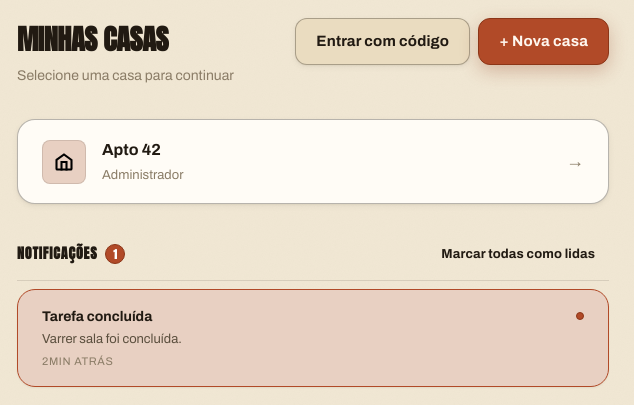
Test: Houses page — notifications panel › marks all notifications as read and hides unread button
Click the button "Marcar todas como lidas".
click(518, 254)  # box [427,236,609,272]
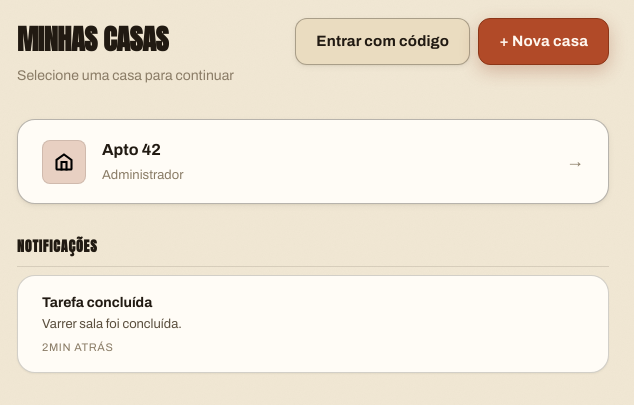
Expected: the button "Marcar todas como lidas" is gone
